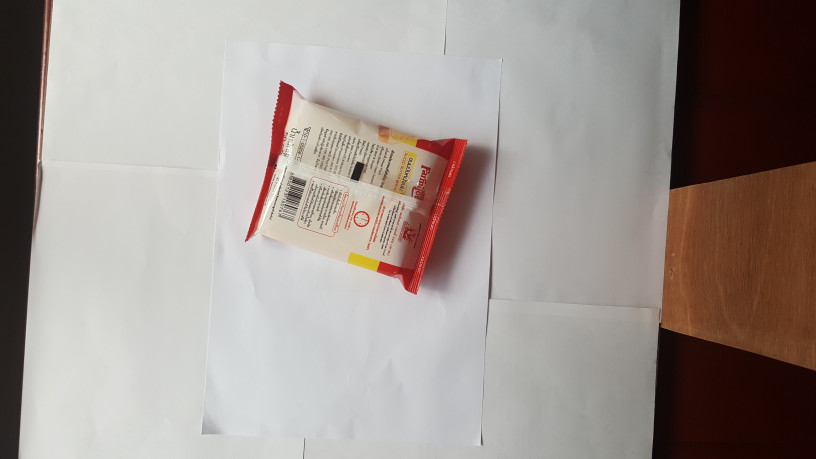farmhouse-bread-butter: (235, 77, 482, 300)
